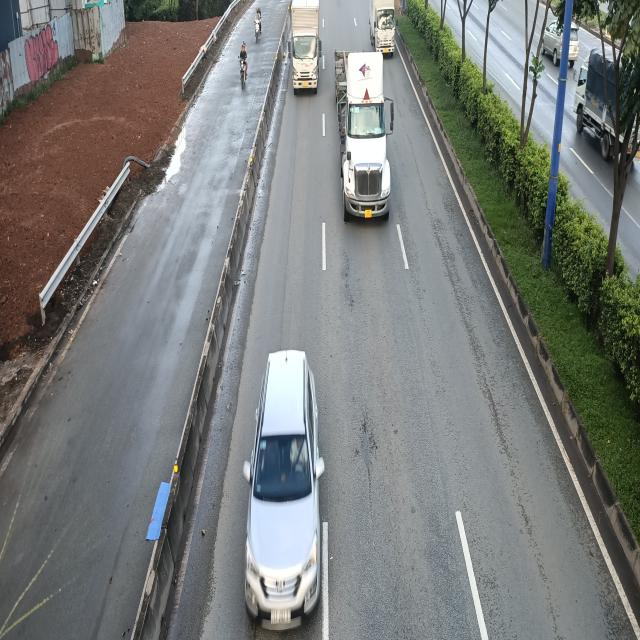car: (242, 347, 326, 633)
container: (334, 52, 394, 223)
truck: (286, 0, 322, 94), (368, 0, 397, 54)
